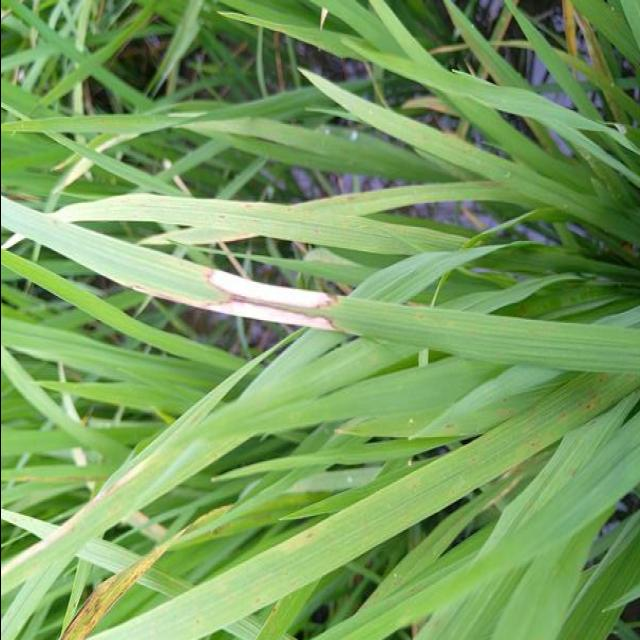Leaf Blight: (59, 539, 172, 640)
Leaf Streak: (202, 269, 333, 330)
